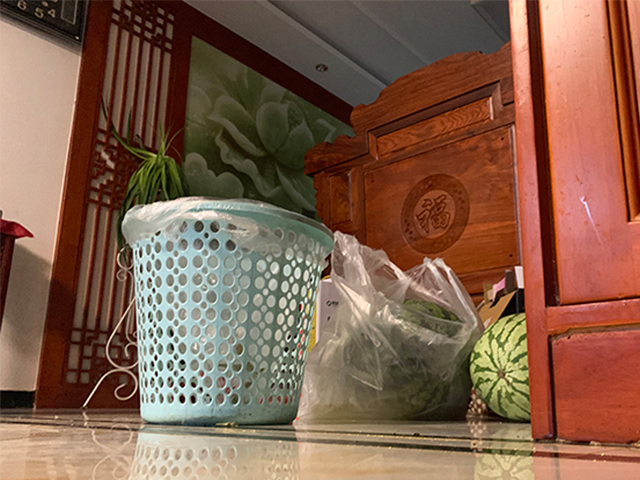trashcan: (121, 197, 335, 426)
